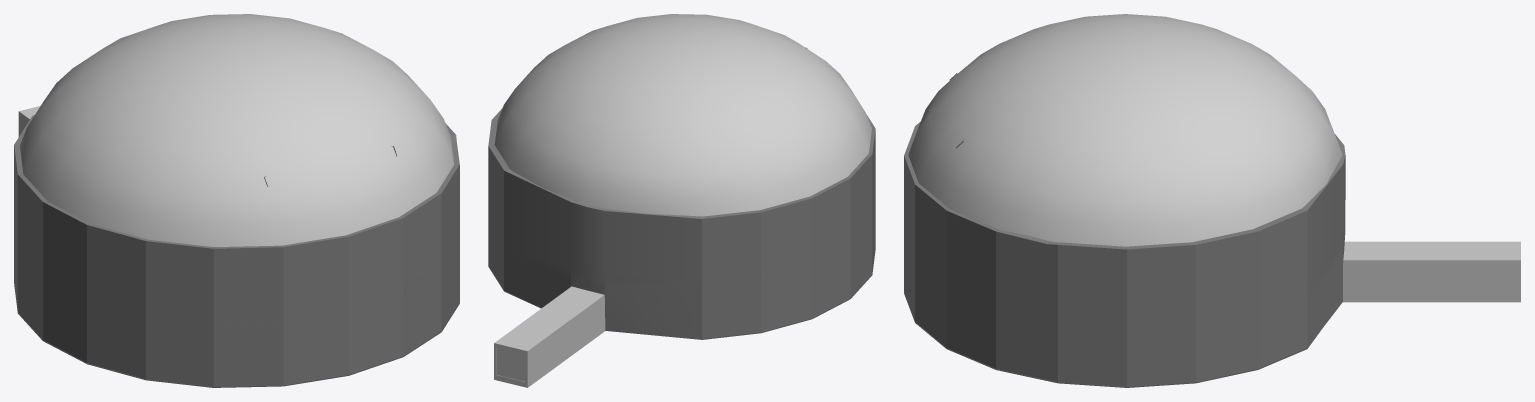
File: Arena.fbx
3 renders of one model, left to right at view 1: azimuth 30°, elevation 25°; view 2: azimuth 150°, elevation 25°; view 3: azimuth 270°, elevation 25°, orthographic. The views are drawn at different scales.
Visible parts, largest first — view 1: Roof, arena_walls_exterior, polySurface134; view 2: Roof, arena_walls_exterior, entrance_wall, Entrance_Floor, entrance_door, polySurface134; view 3: Roof, arena_walls_exterior, Entrance_Floor, entrance_wall, polySurface134.
Part boxes in pixels (left/top/right/bottom): Roof: left=20, top=14, right=453, bottom=246; arena_walls_exterior: left=14, top=116, right=459, bottom=386; polySurface134: left=14, top=283, right=459, bottom=387; Roof: left=494, top=14, right=871, bottom=216; arena_walls_exterior: left=488, top=108, right=875, bottom=338; entrance_wall: left=504, top=169, right=702, bottom=338; Entrance_Floor: left=494, top=286, right=605, bottom=387; entrance_door: left=497, top=346, right=524, bottom=381; polySurface134: left=488, top=252, right=875, bottom=339; Roof: left=908, top=14, right=1342, bottom=246; arena_walls_exterior: left=904, top=122, right=1307, bottom=386; Entrance_Floor: left=1343, top=241, right=1520, bottom=302; entrance_wall: left=1301, top=134, right=1345, bottom=347; polySurface134: left=904, top=293, right=1320, bottom=387.
Size of the model in its own units: 5720 by 3553 by 7912.
